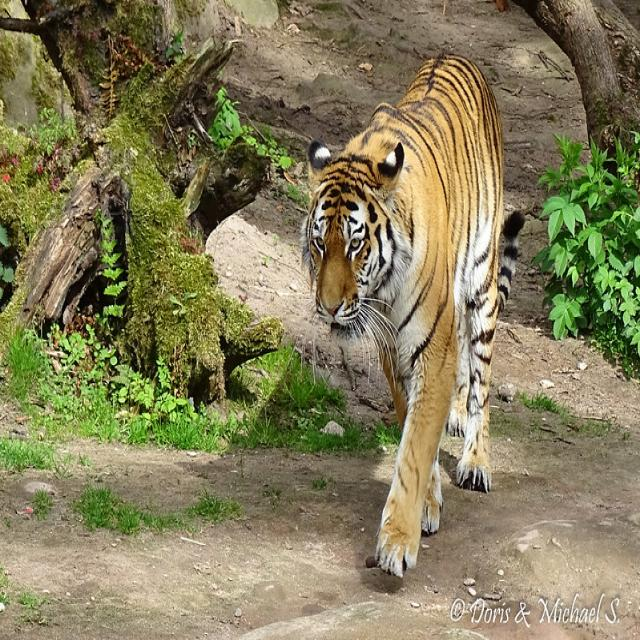Tiger: (292, 36, 525, 582)
